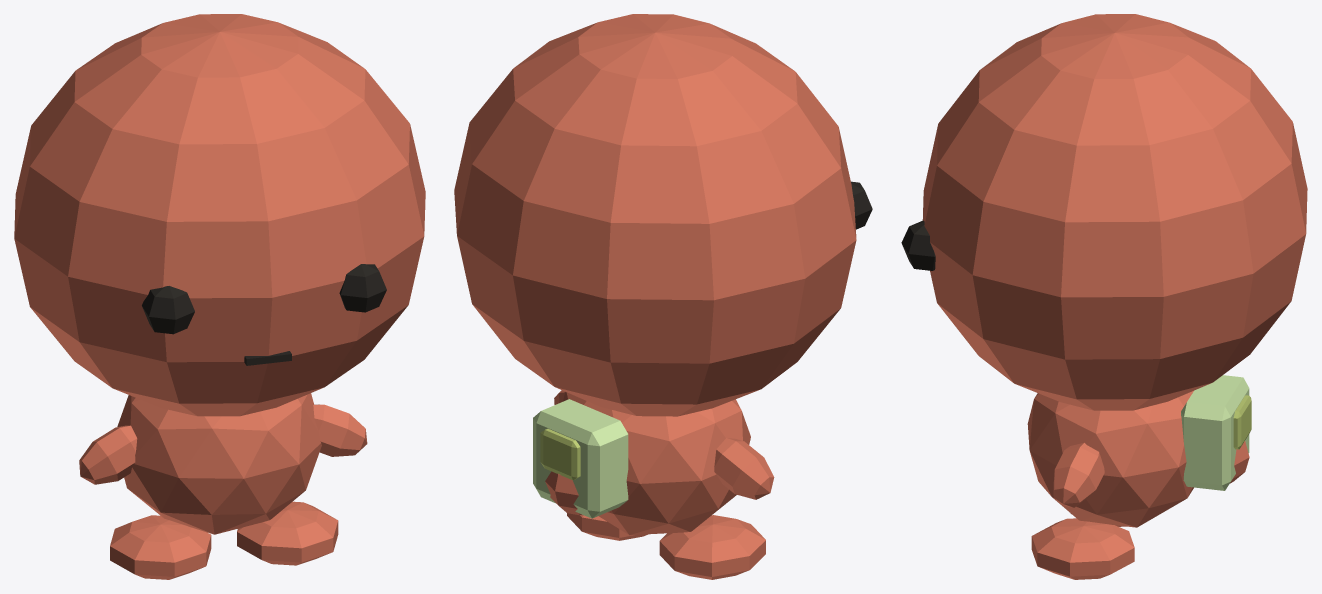
The model's file is biped-forest-1.glb.
3 renders of one model, left to right at view 1: azimuth 30°, elevation 25°; view 2: azimuth 150°, elevation 25°; view 3: azimuth 270°, elevation 25°, orthographic. The views are drawn at different scales.
Visible parts, largest first — view 1: biped-forest-1; view 2: biped-forest-1; view 3: biped-forest-1.
Boxes of the visible parts, x1,y1,x2,y2 form: biped-forest-1: [14, 14, 425, 579]; biped-forest-1: [454, 14, 872, 579]; biped-forest-1: [901, 14, 1307, 579].
Size of the model in its own units: 0.6391 by 0.9 by 0.6446.
